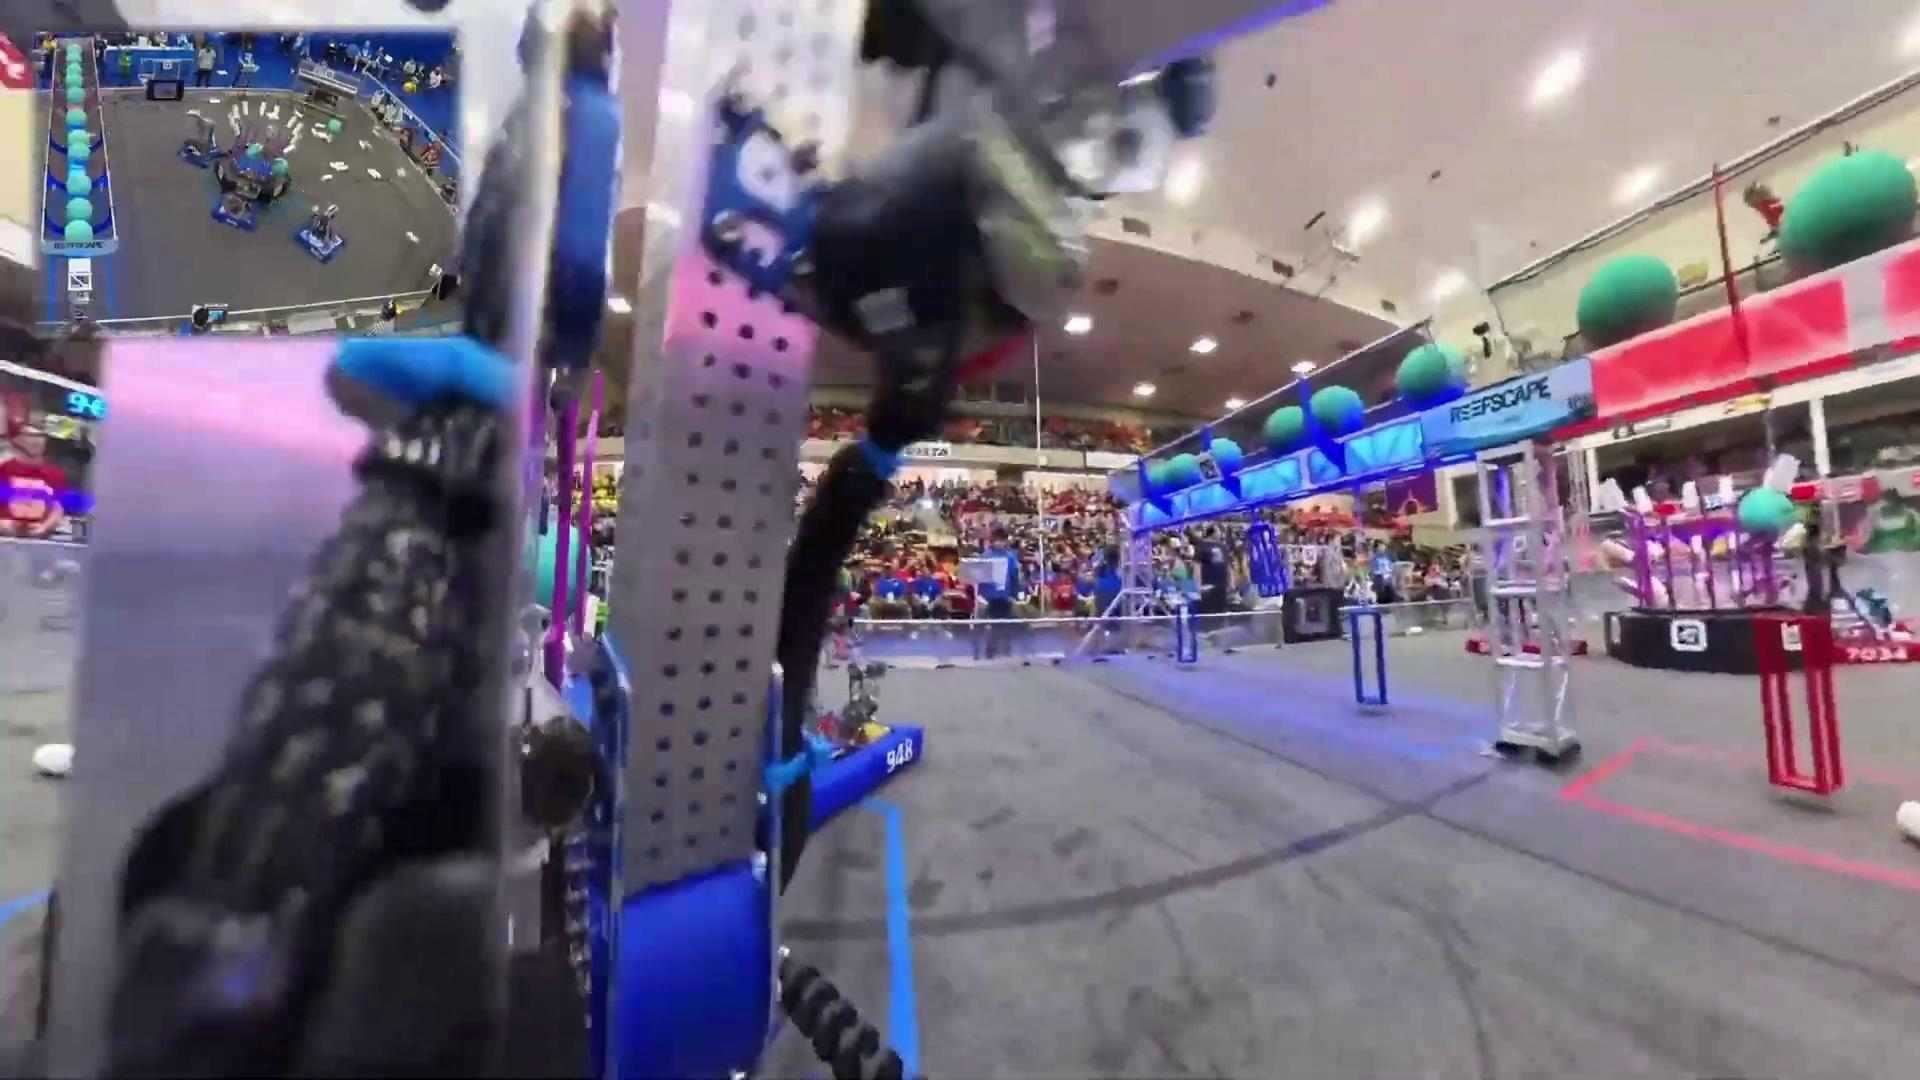robot: (1811, 496, 1919, 673), (804, 649, 920, 802), (1466, 596, 1590, 659), (295, 204, 349, 266), (211, 178, 268, 233), (178, 112, 227, 174)
